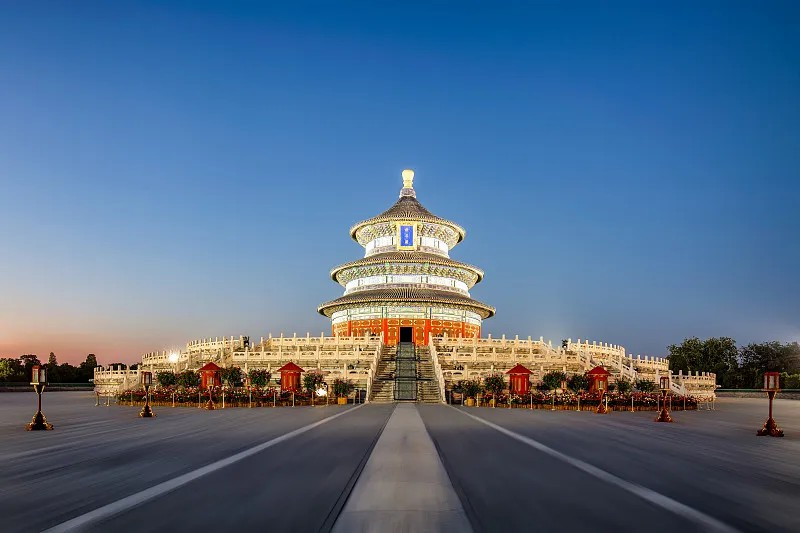Heaven: (315, 169, 497, 341)
